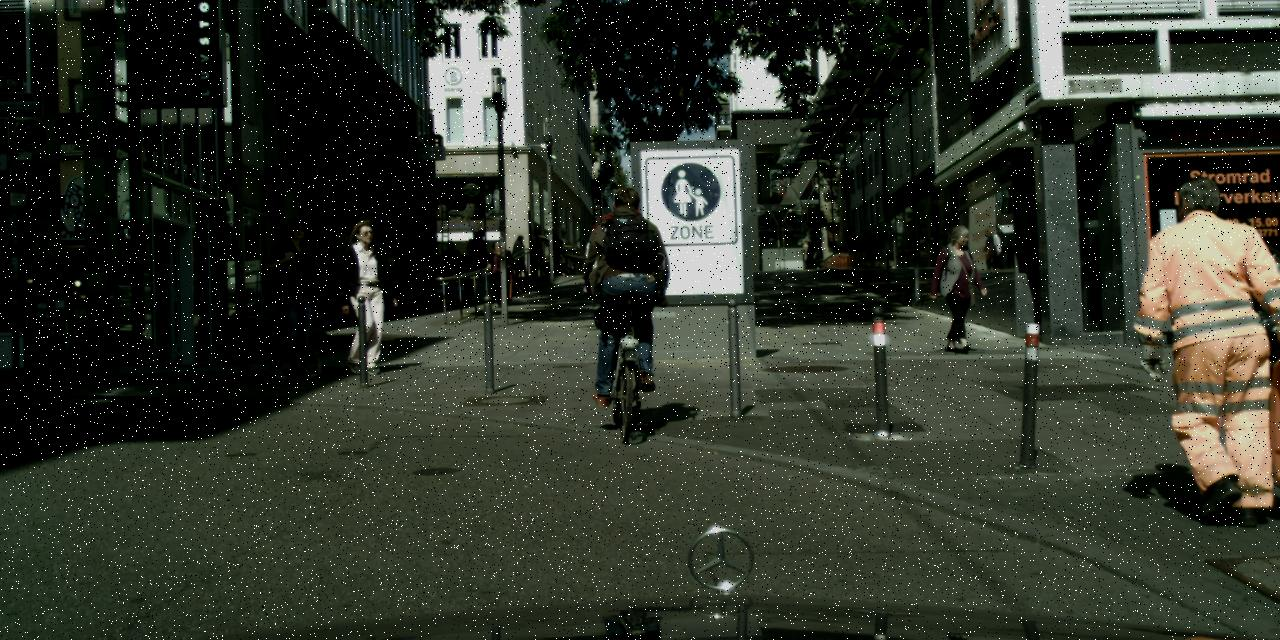ped: (1146, 174, 1279, 520), (583, 185, 668, 395), (262, 217, 326, 377), (332, 219, 395, 373), (934, 225, 984, 351), (487, 240, 512, 306), (438, 240, 462, 300), (799, 220, 819, 270), (468, 230, 488, 276), (531, 228, 549, 277), (511, 233, 528, 276), (554, 234, 564, 277)
